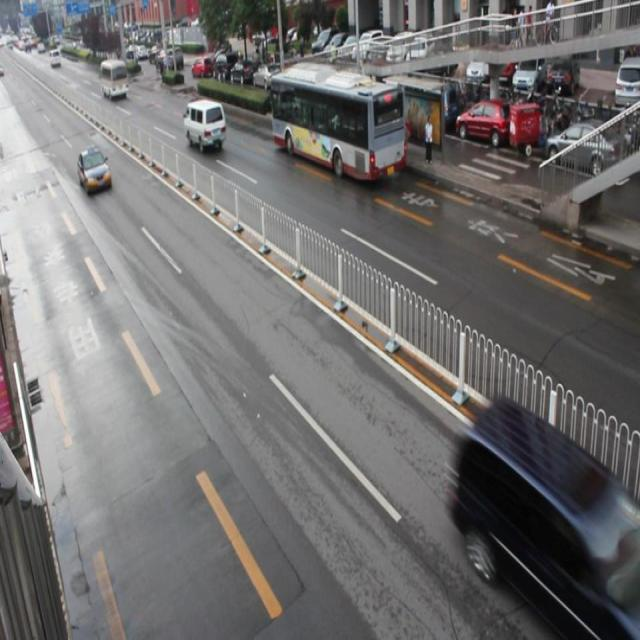car: (78, 146, 111, 193)
truck: (454, 400, 640, 640), (183, 98, 225, 150)
van: (270, 70, 404, 180)
